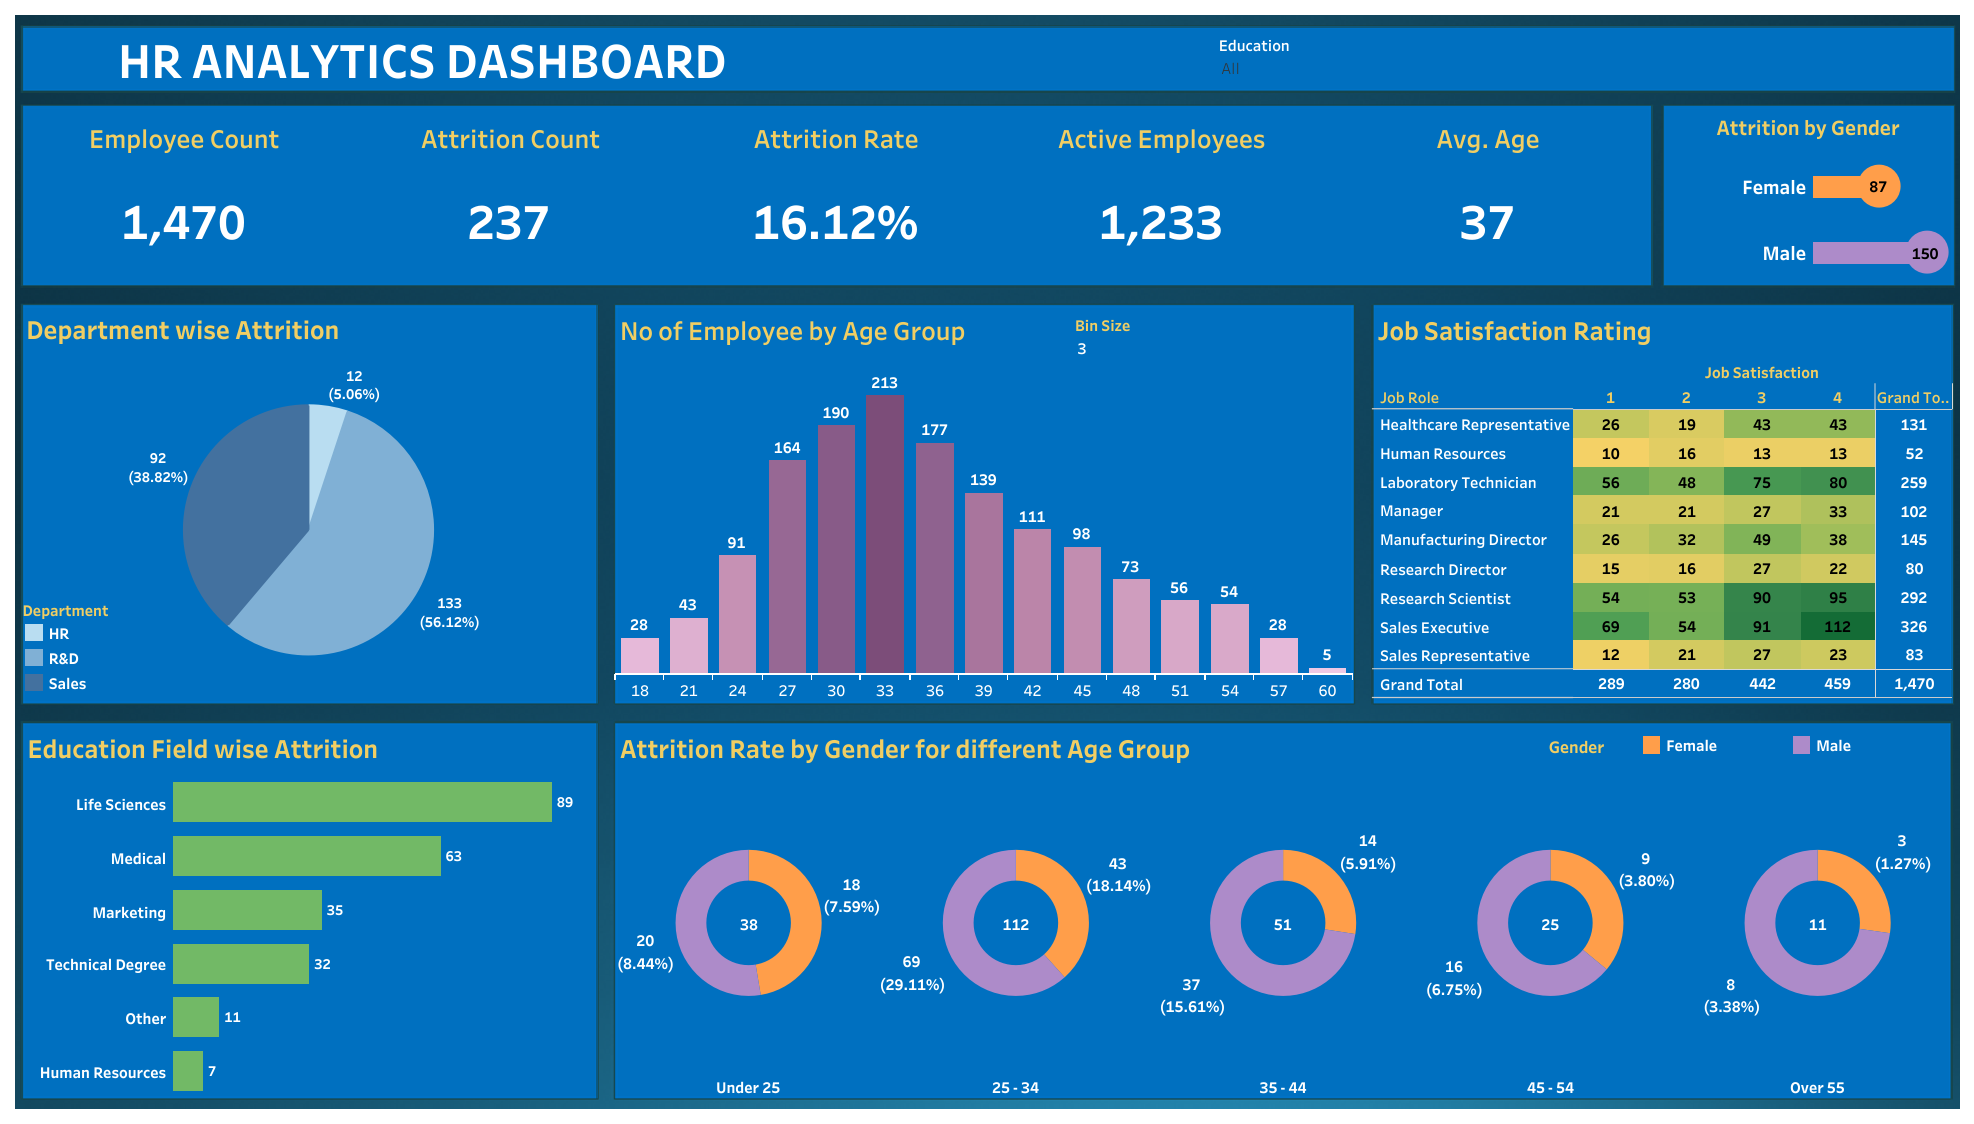

The dashboard page shown, as its layout file describes it:
{"tool":"tableau","page":{"name":"HR Analytics Dashboard","canvas":[1580,900],"ordinal":0},"visuals":[{"type":"image","param":"Image/Dashboard BG2.png","box":[8,8,1564,884]},{"type":"text","box":[19,26,638,40]},{"type":"filter","title":"Attrition Rate by Gender for different Age Group","param":"[federated.10sr41u0fbhx8715kzixe0lzygel].[none:Education:nk]","box":[975,26,583,40]},{"type":"worksheet","title":"KPI","mark":"Automatic","box":[17,84,1304,144]},{"type":"worksheet","title":"Attrition by Gender","mark":"Automatic","rows":["Gender"],"cols":["Calculation_1013498890276864","Calculation_1013498890276864"],"box":[1330,84,233,144]},{"type":"worksheet","title":"Department wise Attrition","mark":"Pie","box":[17,243,460,318]},{"type":"worksheet","title":"No of Employee by Age Group","mark":"Automatic","rows":["Employee Count"],"cols":["Age (bin)"],"box":[492,244,590,317]},{"type":"worksheet","title":"Job Satisfaction Rating","mark":"Square","rows":["Job Role"],"cols":["Job Satisfaction"],"box":[1098,244,464,315]},{"type":"parameter","param":"[Parameters].[Parameter 1]","box":[860,250,217,45]},{"type":"legend","title":"Department wise Attrition","param":"[federated.10sr41u0fbhx8715kzixe0lzygel].[none:Department:nk]","box":[17,477,140,85]},{"type":"worksheet","title":"Education Field wise Attrition","mark":"Automatic","rows":["Education Field"],"cols":["Calculation_1013498890276864"],"box":[18,578,460,300]},{"type":"worksheet","title":"Attrition Rate by Gender for different Age Group","mark":"Pie","rows":["Calculation_1719386363101185","Calculation_1719386363101185"],"cols":["CF_age band"],"box":[492,578,1069,300]},{"type":"legend","title":"Attrition Rate by Gender for different Age Group","param":"[federated.10sr41u0fbhx8715kzixe0lzygel].[none:Gender:nk]","box":[1239,586,315,33]}]}

Visuals, with their boxes in screenshot pixels (x1, y1, x2, y2), scaled from the page's 1580x900 canvas onto the 1974x1124 screenshot:
image: [x1=10, y1=10, x2=1964, y2=1114]
text: [x1=24, y1=32, x2=821, y2=82]
"Attrition Rate by Gender for different Age Group" filter: [x1=1218, y1=32, x2=1947, y2=82]
"KPI" worksheet: [x1=21, y1=105, x2=1650, y2=285]
"Attrition by Gender" worksheet: [x1=1662, y1=105, x2=1953, y2=285]
"Department wise Attrition" worksheet (Pie marks): [x1=21, y1=303, x2=596, y2=701]
"No of Employee by Age Group" worksheet: [x1=615, y1=305, x2=1352, y2=701]
"Job Satisfaction Rating" worksheet (Square marks): [x1=1372, y1=305, x2=1952, y2=698]
parameter: [x1=1074, y1=312, x2=1346, y2=368]
"Department wise Attrition" legend: [x1=21, y1=596, x2=196, y2=702]
"Education Field wise Attrition" worksheet: [x1=22, y1=722, x2=597, y2=1097]
"Attrition Rate by Gender for different Age Group" worksheet (Pie marks): [x1=615, y1=722, x2=1950, y2=1097]
"Attrition Rate by Gender for different Age Group" legend: [x1=1548, y1=732, x2=1942, y2=773]
